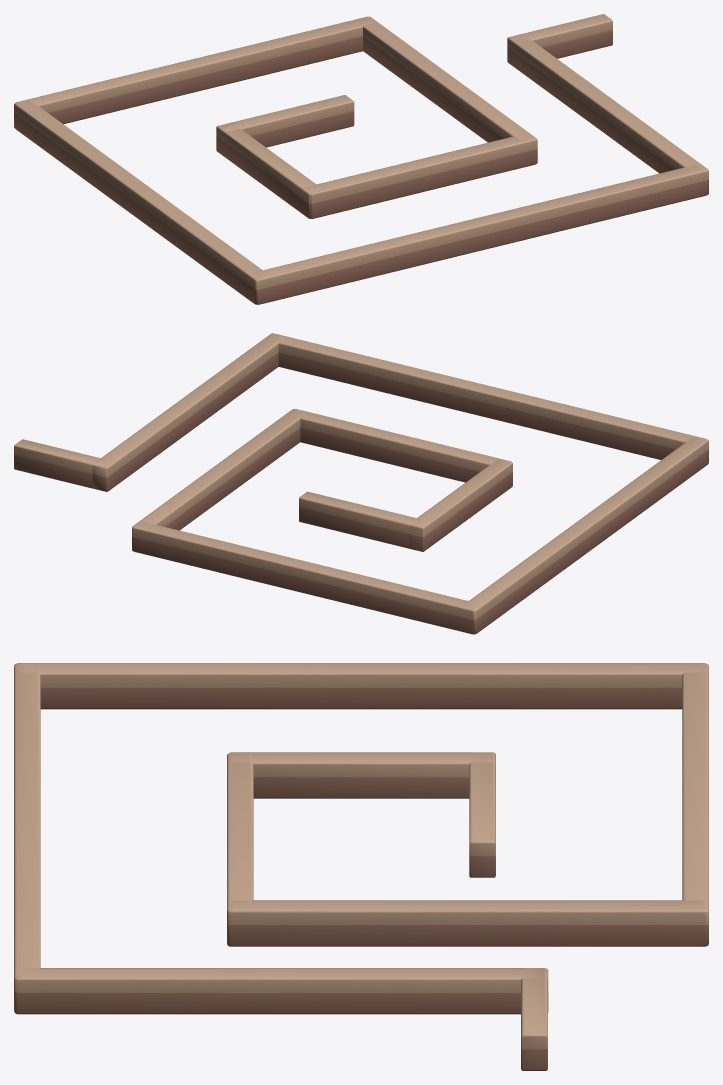
The model's file is Props.fbx.
The picture shows the model from 3 angles, top to bottom: view 1: azimuth 30°, elevation 25°; view 2: azimuth 150°, elevation 25°; view 3: azimuth 270°, elevation 25°; orthographic projection. The views are drawn at different scales.
Parts seen in each view (by area): view 1: Box20-3_1 (5), Box20-3_1 (6), Box20-3_1 (2), Box20-3_1 (7), Box20-3_2 (7), Box20-3_1 (3), Box20-3_1 (8), Box20-3_1 (9), Box20-3_1 (4); view 2: Box20-3_1 (5), Box20-3_1 (6), Box20-3_1 (2), Box20-3_2 (7), Box20-3_1 (7), Box20-3_1 (3), Box20-3_1 (9), Box20-3_1 (8), Box20-3_1 (4); view 3: Box20-3_1 (2), Box20-3_2 (7), Box20-3_1 (3), Box20-3_1 (8), Box20-3_1 (5), Box20-3_1 (6), Box20-3_1 (7), Box20-3_1 (9), Box20-3_1 (4).
Boxes of the visible parts, x1,y1,x2,y2 form: Box20-3_1 (5): [252, 165, 708, 304]; Box20-3_1 (6): [15, 16, 374, 124]; Box20-3_1 (2): [14, 100, 268, 304]; Box20-3_1 (7): [305, 136, 536, 218]; Box20-3_2 (7): [507, 35, 708, 194]; Box20-3_1 (3): [361, 17, 537, 162]; Box20-3_1 (8): [216, 123, 322, 218]; Box20-3_1 (9): [216, 95, 354, 147]; Box20-3_1 (4): [507, 14, 612, 62]; Box20-3_1 (5): [268, 333, 707, 459]; Box20-3_1 (6): [132, 522, 476, 634]; Box20-3_1 (2): [463, 437, 708, 634]; Box20-3_2 (7): [92, 333, 283, 491]; Box20-3_1 (7): [289, 409, 511, 482]; Box20-3_1 (3): [132, 409, 305, 530]; Box20-3_1 (9): [299, 491, 430, 551]; Box20-3_1 (8): [409, 459, 512, 551]; Box20-3_1 (4): [14, 439, 115, 491]; Box20-3_1 (2): [16, 663, 706, 709]; Box20-3_2 (7): [14, 968, 548, 1014]; Box20-3_1 (3): [227, 900, 706, 946]; Box20-3_1 (8): [230, 752, 495, 798]; Box20-3_1 (5): [14, 664, 40, 1010]; Box20-3_1 (6): [682, 664, 708, 945]; Box20-3_1 (7): [227, 753, 253, 944]; Box20-3_1 (9): [469, 752, 495, 877]; Box20-3_1 (4): [521, 968, 547, 1070].
Size of the model in its own units: 33.05 by 1.5 by 26.04.
